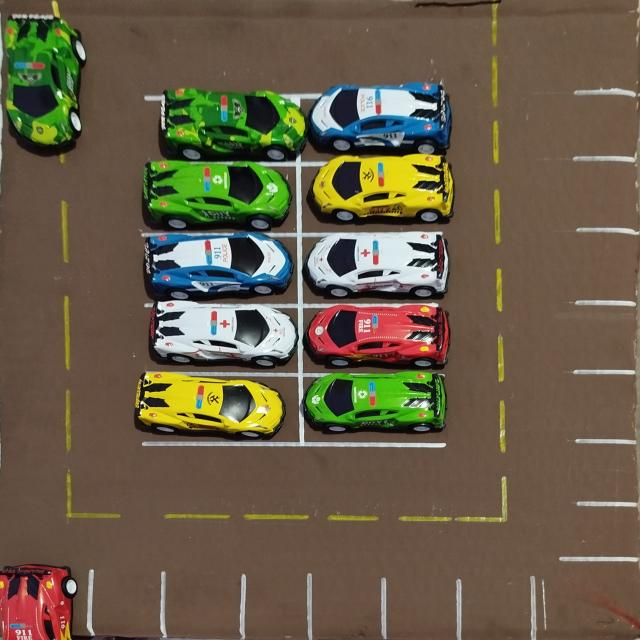libre: (90, 569, 168, 640), (569, 158, 640, 231), (569, 229, 640, 302), (163, 575, 242, 640), (569, 90, 640, 162), (307, 576, 385, 640), (384, 575, 459, 640), (460, 577, 536, 640), (572, 371, 640, 441), (572, 303, 640, 370), (240, 576, 311, 640), (571, 441, 640, 503), (569, 500, 640, 558)
no_estacionarse: (539, 561, 640, 640)
ocupado: (143, 88, 306, 163), (138, 231, 298, 306), (134, 372, 304, 442), (138, 161, 300, 231), (298, 232, 454, 304), (140, 304, 301, 373), (301, 372, 448, 447), (301, 158, 454, 230), (305, 84, 448, 158), (301, 304, 452, 369), (0, 561, 88, 640)
